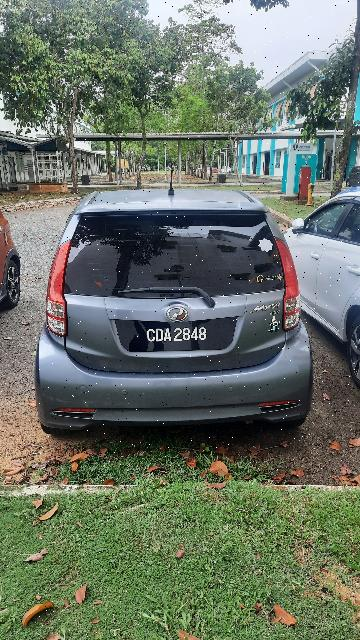License_Plate: (104, 315, 249, 358)
car: (33, 186, 317, 443)
